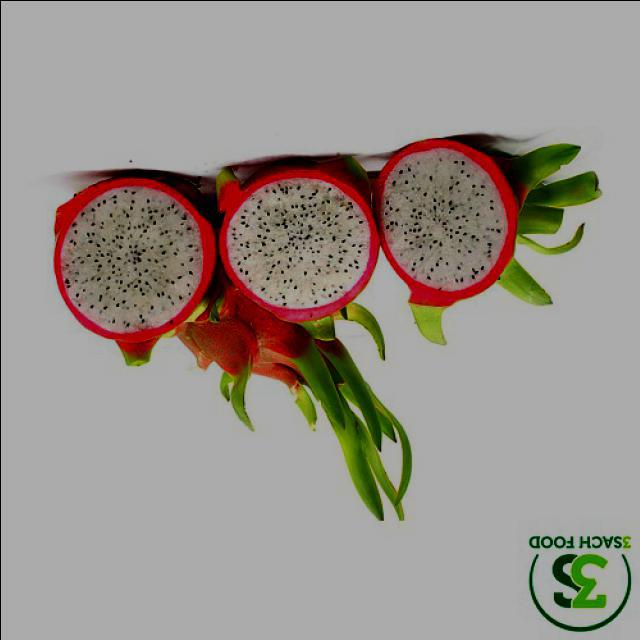trang: (171, 296, 413, 524), (375, 128, 595, 346), (216, 147, 386, 360), (50, 168, 210, 368)
